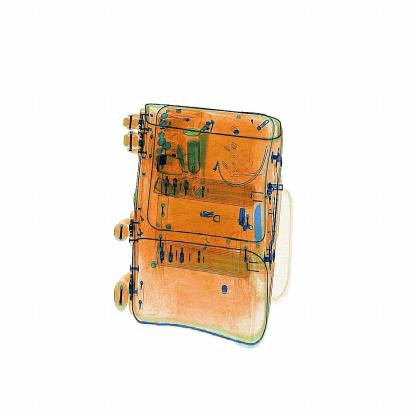wrench: (249, 189, 270, 295)
